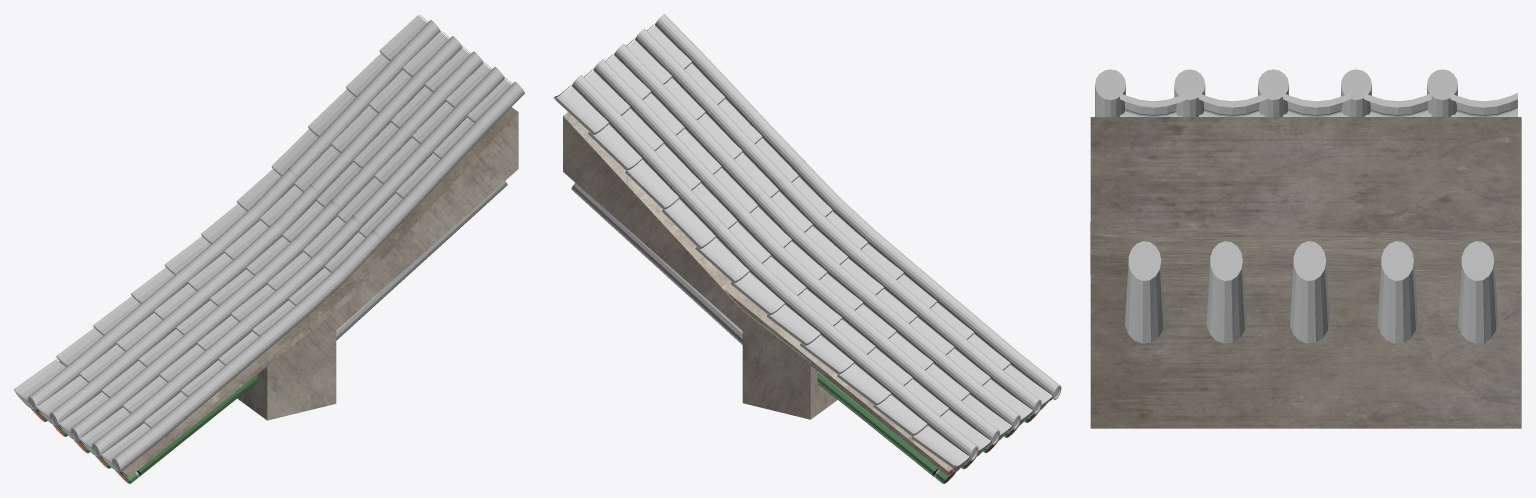
Rendered from SM_Roof_15.fbx.
3 renders of one model, left to right at view 1: azimuth 30°, elevation 25°; view 2: azimuth 150°, elevation 25°; view 3: azimuth 270°, elevation 25°, orthographic. The views are drawn at different scales.
Parts seen in each view (by area): view 1: SM_Roof_15; view 2: SM_Roof_15; view 3: SM_Roof_15.
Boxes of the visible parts, x1,y1,x2,y2 form: SM_Roof_15: (14,15,524,483); SM_Roof_15: (553,14,1061,483); SM_Roof_15: (1090,69,1521,428).
Size of the model in its own units: 457 by 211 by 334.
